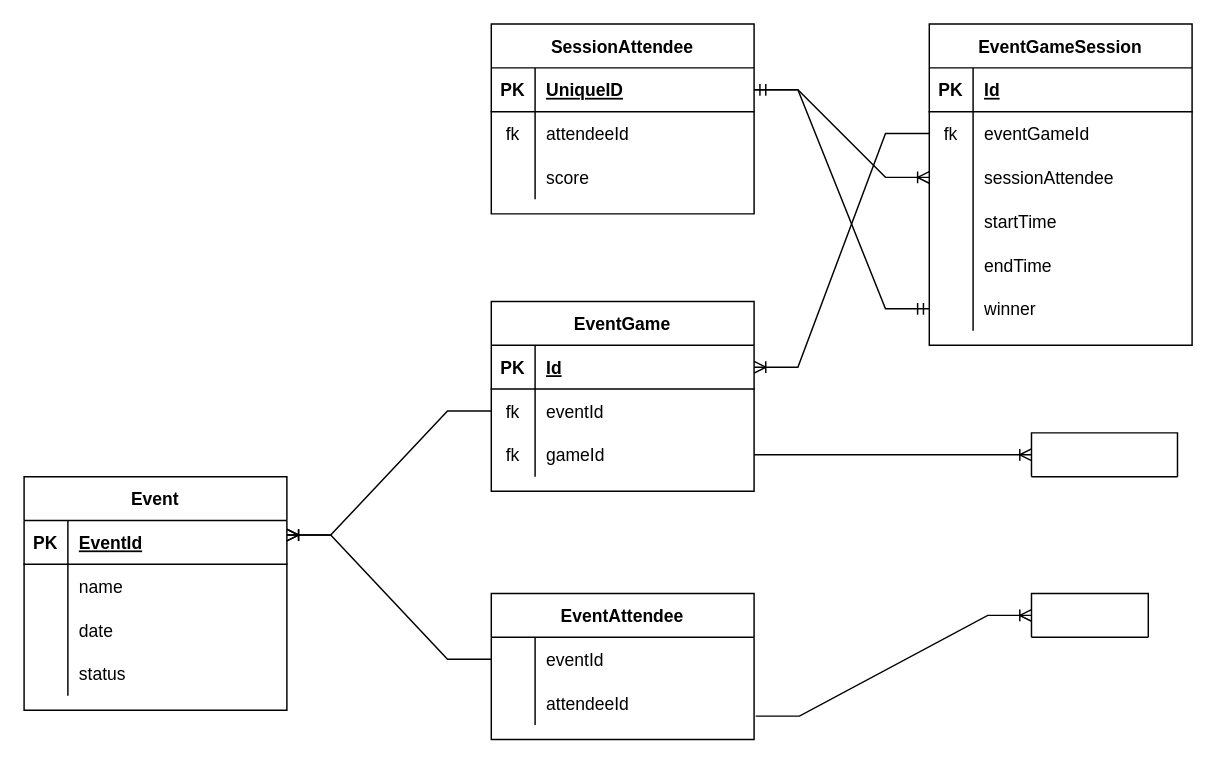
Image size: 1216x764. Some labels were removed from this diagram. Each missing label, with the centre of its shape:
"Attendee" goes at pixel 1089 614.
"BoardGame" goes at pixel 1103 454.
